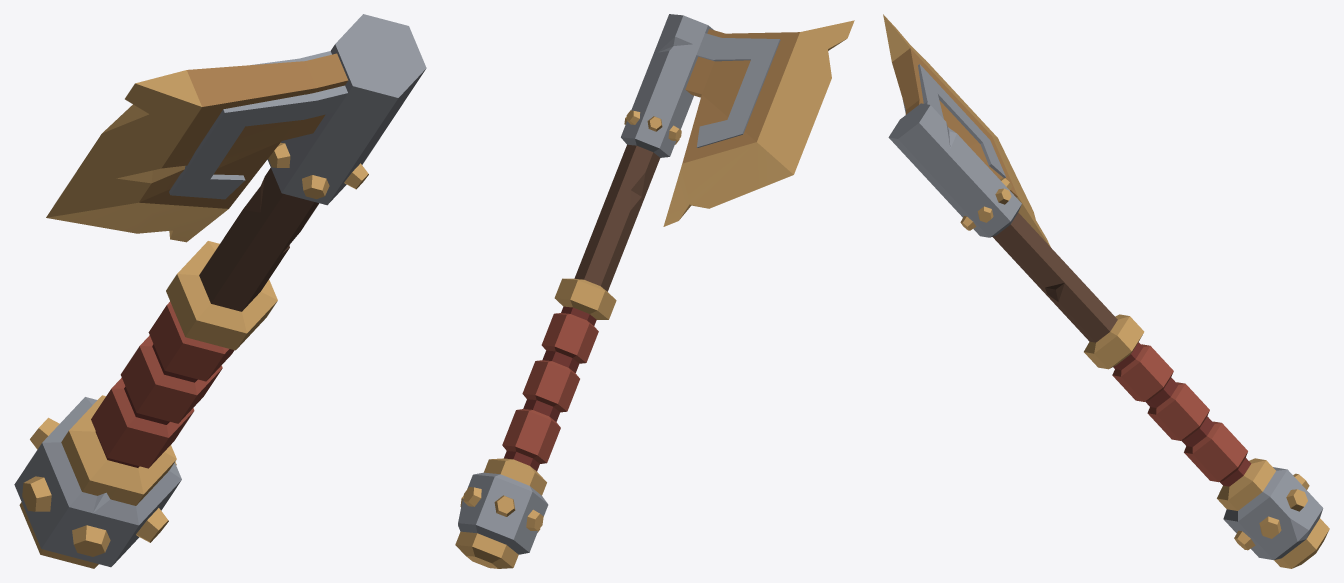
The model's file is dr-axe-small-05.glb.
The picture shows the model from 3 angles, left to right: view 1: azimuth 30°, elevation 25°; view 2: azimuth 150°, elevation 25°; view 3: azimuth 270°, elevation 25°; orthographic projection. The views are drawn at different scales.
Visible parts, largest first — view 1: dr-axe-small-05; view 2: dr-axe-small-05; view 3: dr-axe-small-05.
Boxes of the visible parts, box(x1,y1,x2,y2) form: dr-axe-small-05: box(14, 14, 426, 568); dr-axe-small-05: box(455, 14, 854, 568); dr-axe-small-05: box(883, 14, 1329, 568).
Bounding box in the file's own units: 0.2574 × 0.5384 × 0.4663.
Materials: 1 (1 with a texture image).
